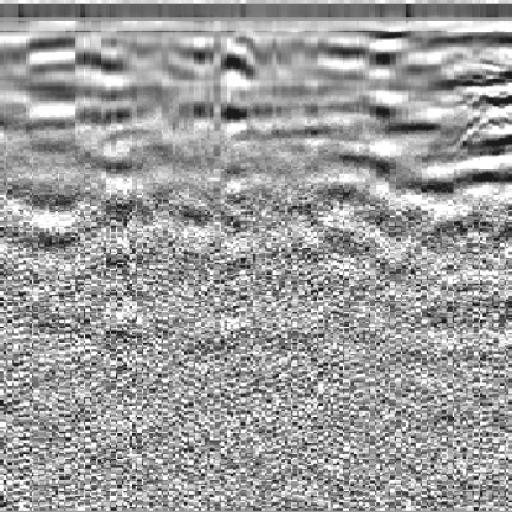metalic: (423, 18, 512, 279)
